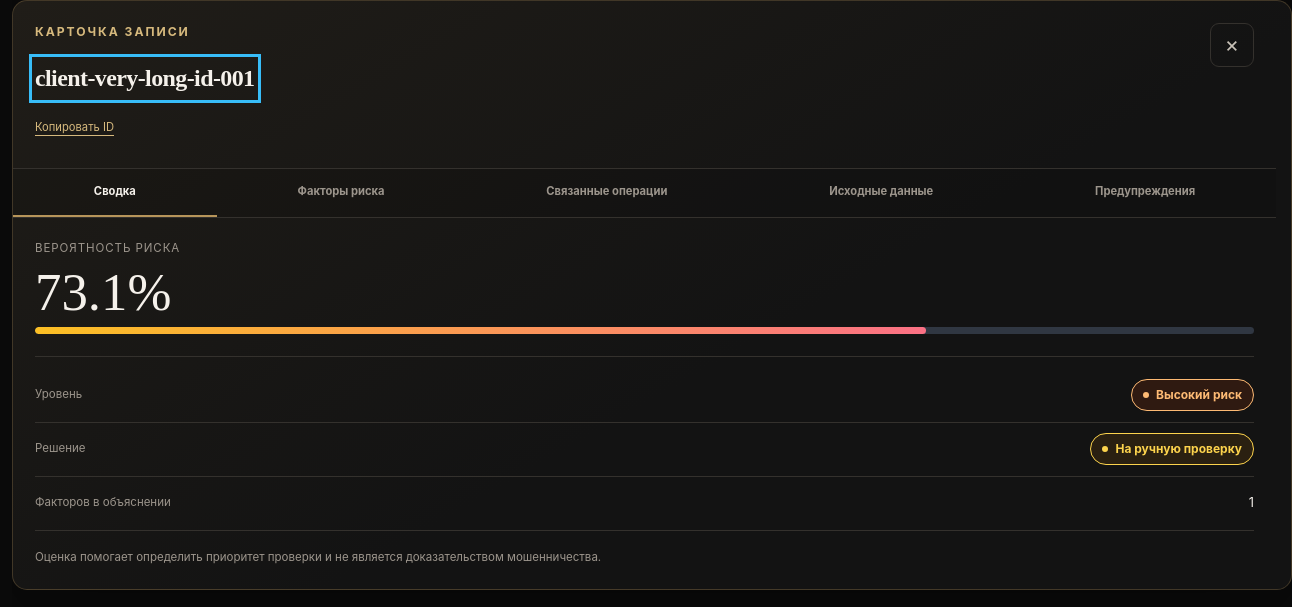
Test: RecordDetails › copies the full id and keeps neutral labels for unknown factors
Click the button "Копировать ID" at (74, 128), box [35,106,114,150]
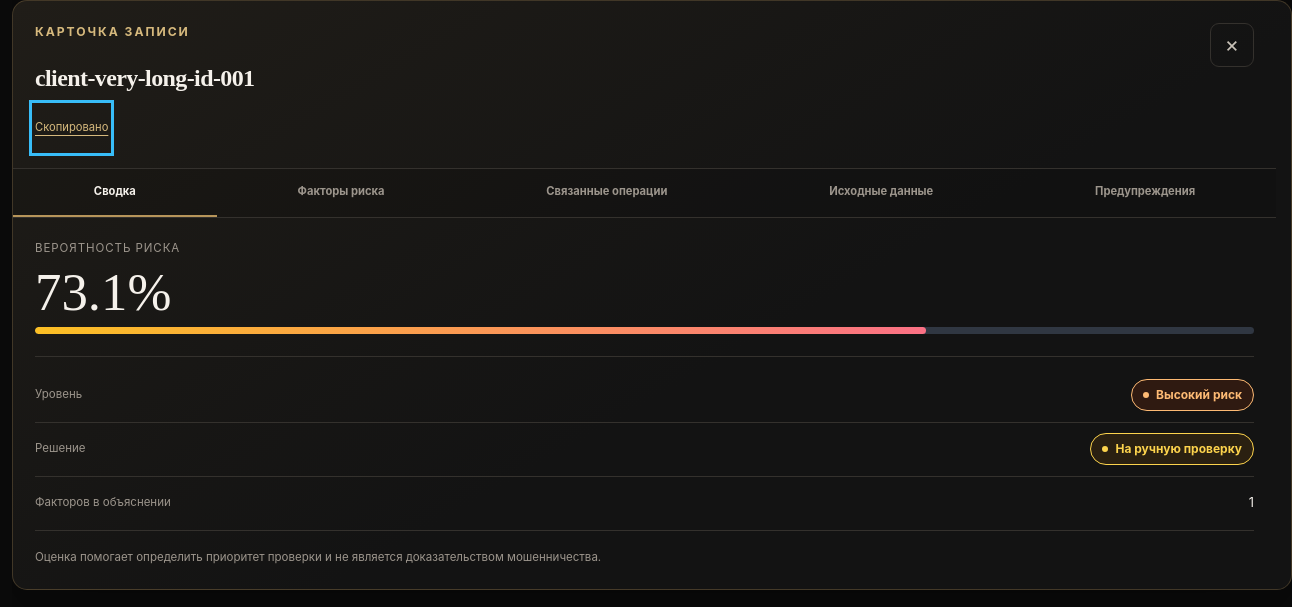
Now the button "Скопировано" is shown, box [35,106,108,150]
Click the tab "Факторы риска" at (341, 193), box [217,169,466,217]
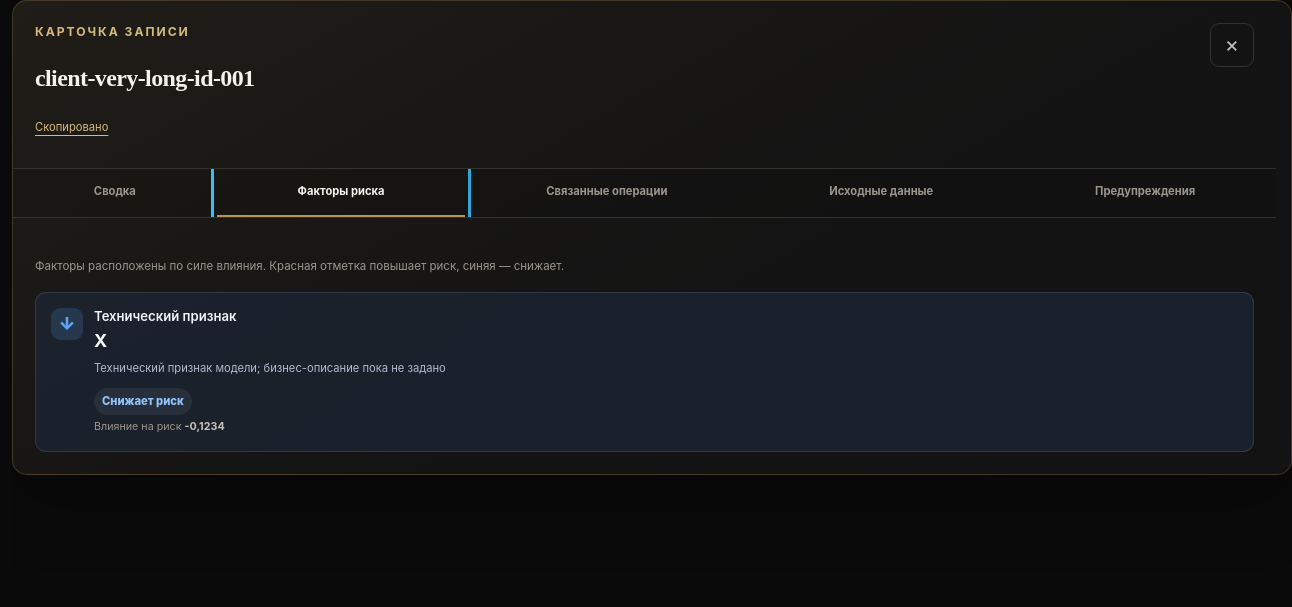
Now the text "Технический признак" is shown, box [94,308,236,324]
Now the text "Снижает риск" is shown, box [94,388,192,415]
Now the text "Влияние на риск -0,1234" is shown, box [94,420,225,433]
